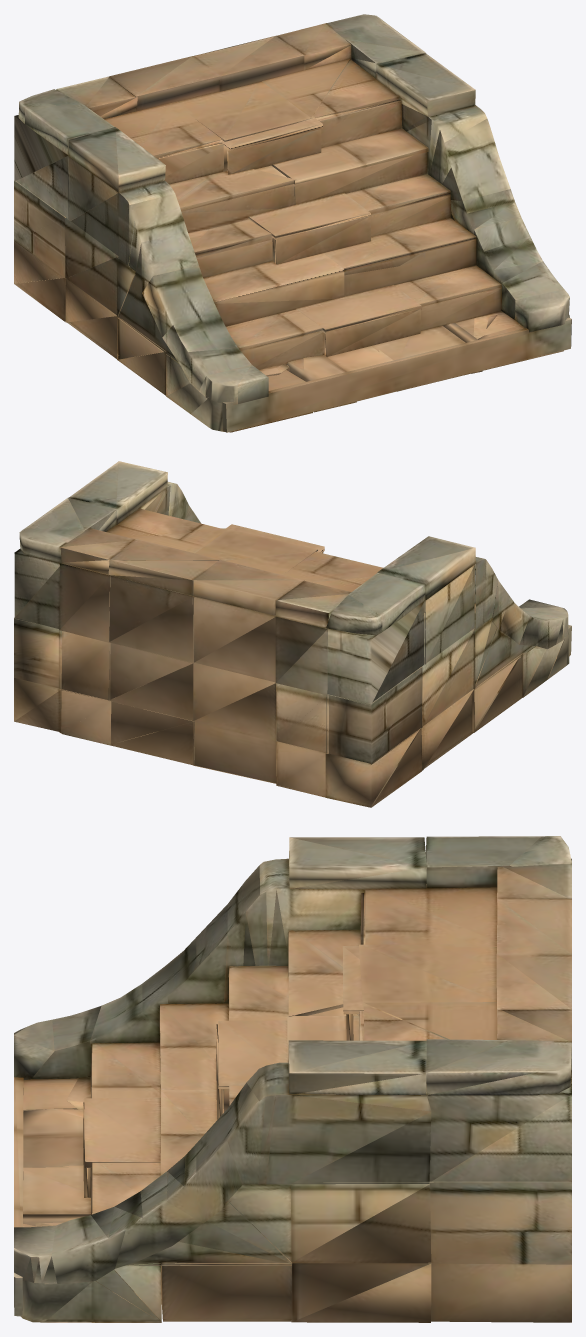
File: stone-stairs.glb
The picture shows the model from 3 angles, top to bottom: view 1: azimuth 30°, elevation 25°; view 2: azimuth 150°, elevation 25°; view 3: azimuth 270°, elevation 25°; orthographic projection. The views are drawn at different scales.
Bounding box in the file's own units: 2 × 1 × 2.
1 material, 1 textured.
